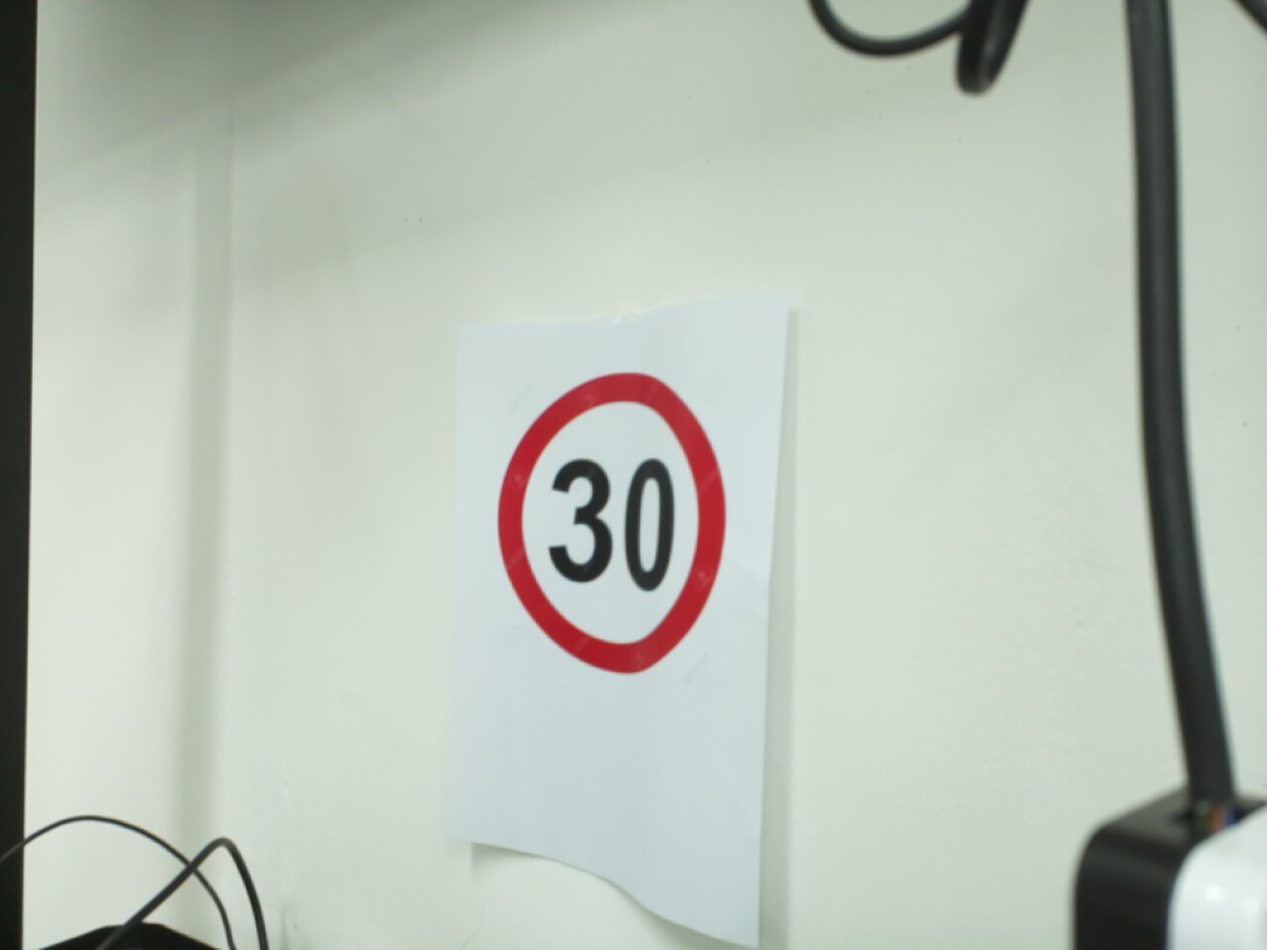speed_30: (490, 362, 733, 684)
